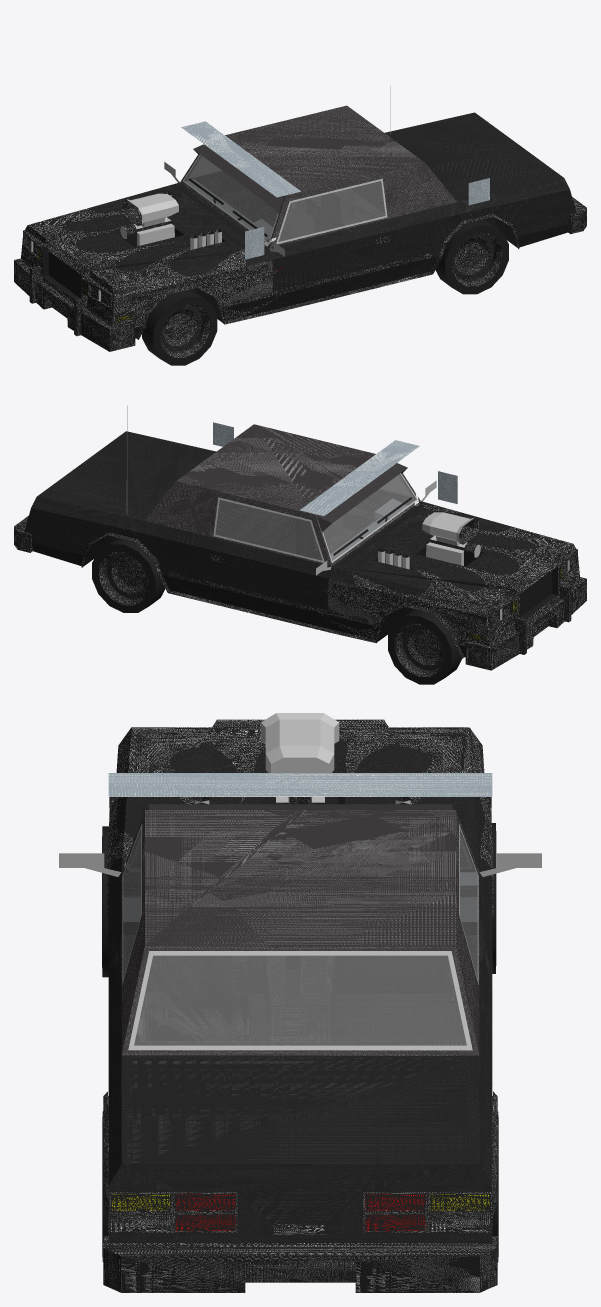
File: mobil.obj
3 renders of one model, top to bottom at view 1: azimuth 30°, elevation 25°; view 2: azimuth 150°, elevation 25°; view 3: azimuth 270°, elevation 25°, orthographic. The views are drawn at different scales.
Visible parts, largest first — view 1: Mesh1 car1 Model, Mesh5 car1 Model, Mesh3 car1 Model, Mesh11 car1 Model, Mesh7 car1 Model, Mesh12 car1 Model; view 2: Mesh1 car1 Model, Mesh4 car1 Model, Mesh2 car1 Model, Mesh11 car1 Model, Mesh7 car1 Model, Mesh12 car1 Model; view 3: Mesh1 car1 Model, Mesh11 car1 Model, Mesh5 car1 Model.
Boxes of the visible parts, box(x1,y1,x2,y2) form: Mesh1 car1 Model: box(14, 86, 586, 351); Mesh5 car1 Model: box(142, 289, 217, 365); Mesh3 car1 Model: box(435, 219, 508, 294); Mesh11 car1 Model: box(181, 121, 300, 197); Mesh7 car1 Model: box(245, 227, 264, 259); Mesh12 car1 Model: box(468, 178, 489, 205); Mesh1 car1 Model: box(14, 406, 586, 670); Mesh4 car1 Model: box(388, 609, 461, 684); Mesh2 car1 Model: box(92, 538, 165, 612); Mesh11 car1 Model: box(300, 440, 419, 515); Mesh7 car1 Model: box(438, 471, 457, 503); Mesh12 car1 Model: box(213, 422, 233, 446); Mesh1 car1 Model: box(59, 713, 541, 1292); Mesh11 car1 Model: box(108, 773, 492, 796); Mesh5 car1 Model: box(102, 826, 108, 977).
Size of the model in its own units: 11.83 by 4.9 by 5.06.
